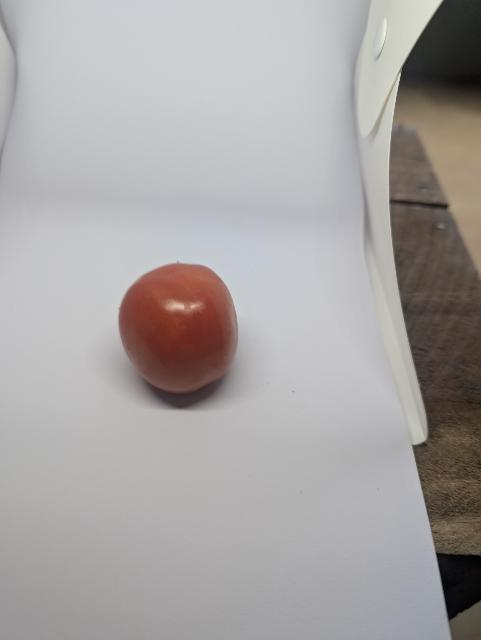red: (112, 255, 244, 403)
